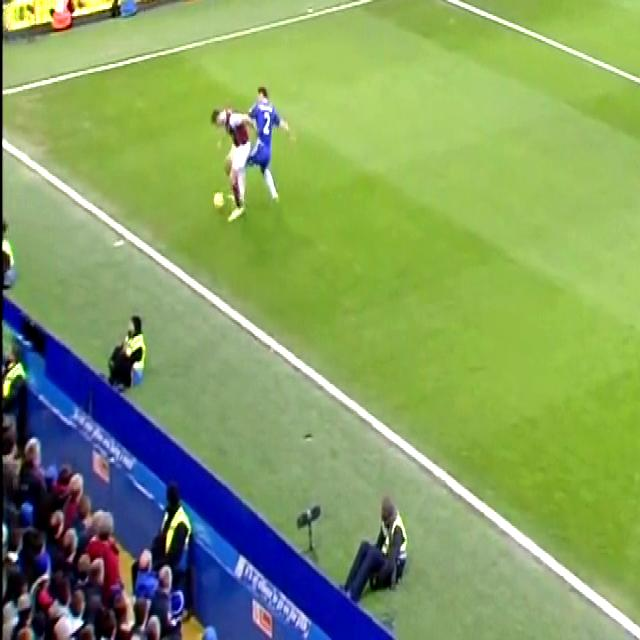ball: (207, 178, 230, 227)
soccer-player: (245, 64, 291, 212), (212, 74, 255, 213)
